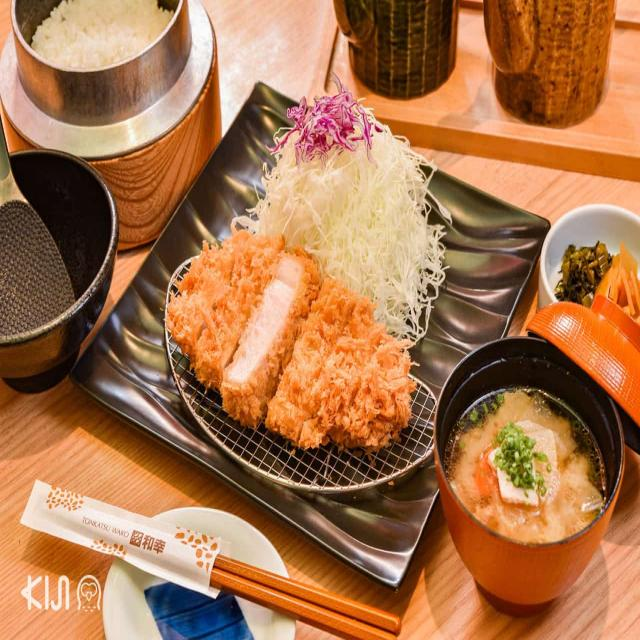carb: (32, 1, 175, 70)
meat: (167, 231, 415, 451)
vegetable: (237, 78, 446, 343), (556, 242, 640, 326), (495, 422, 549, 496)
